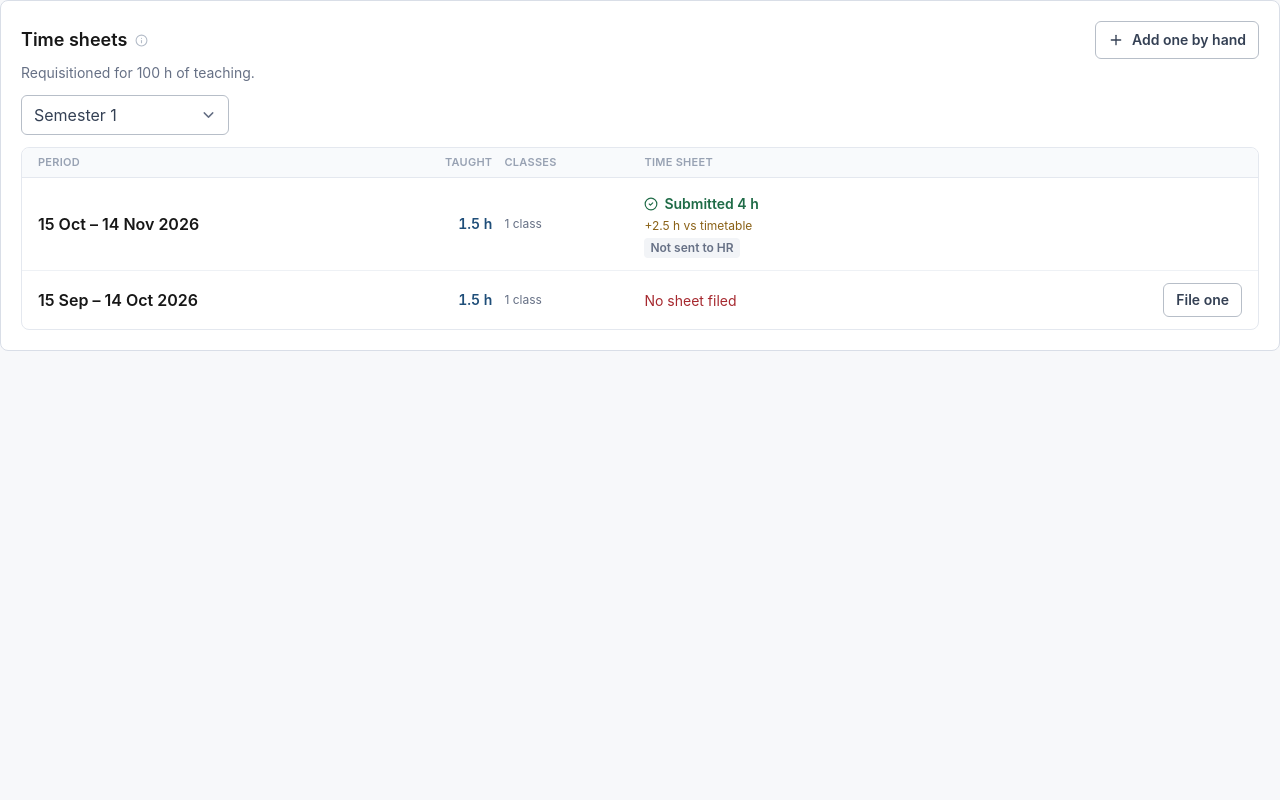
Scenario: a period the Part-Time Timesheets app has had approved › says how far the claim is from what the timetable has, which nobody would check by hand
The width and height of the screenshot is (1280, 800).
Expected: the text "+2.5 h vs timetable" is shown, [644,218,752,234]
Click the button "Submitted 4 h" at (702, 204), box [644,194,759,214]
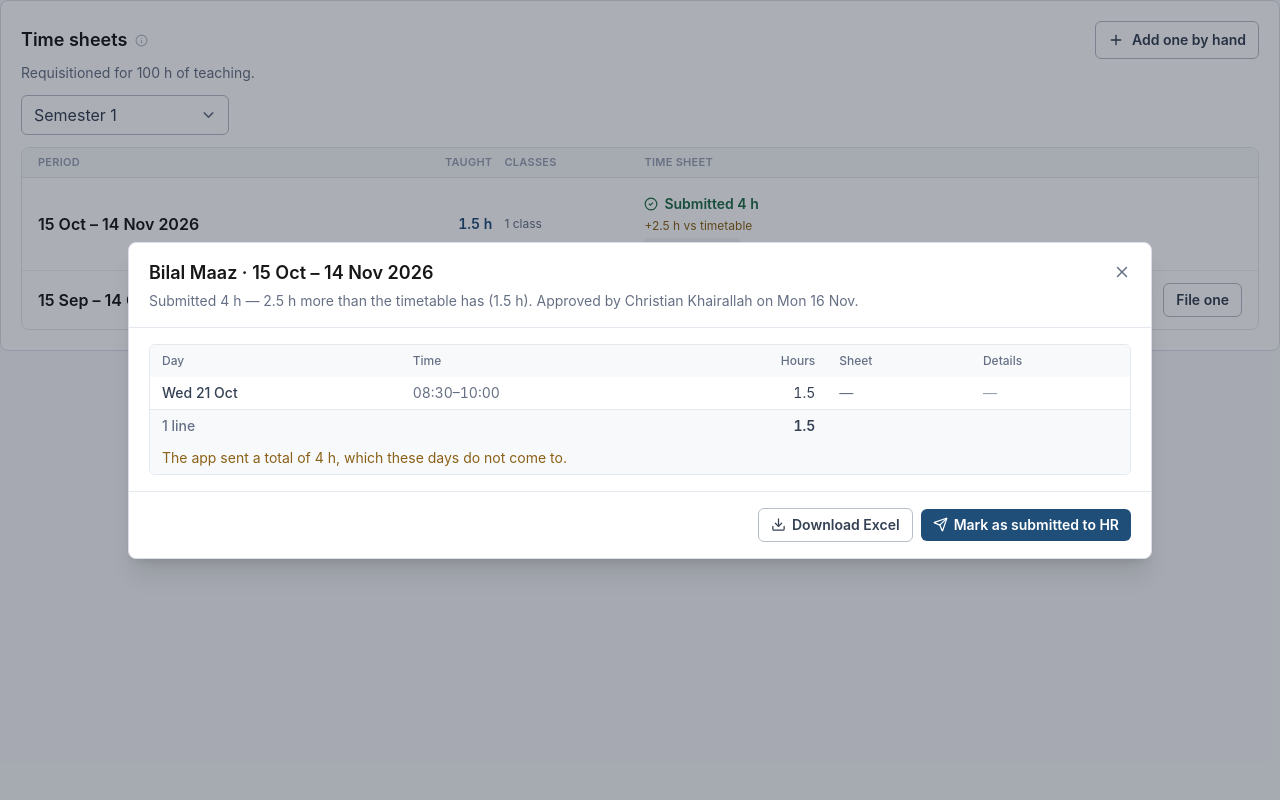
Result: the text "2.5 h more than the timetable has (1.5 h)" is shown at [149,292,859,308]
